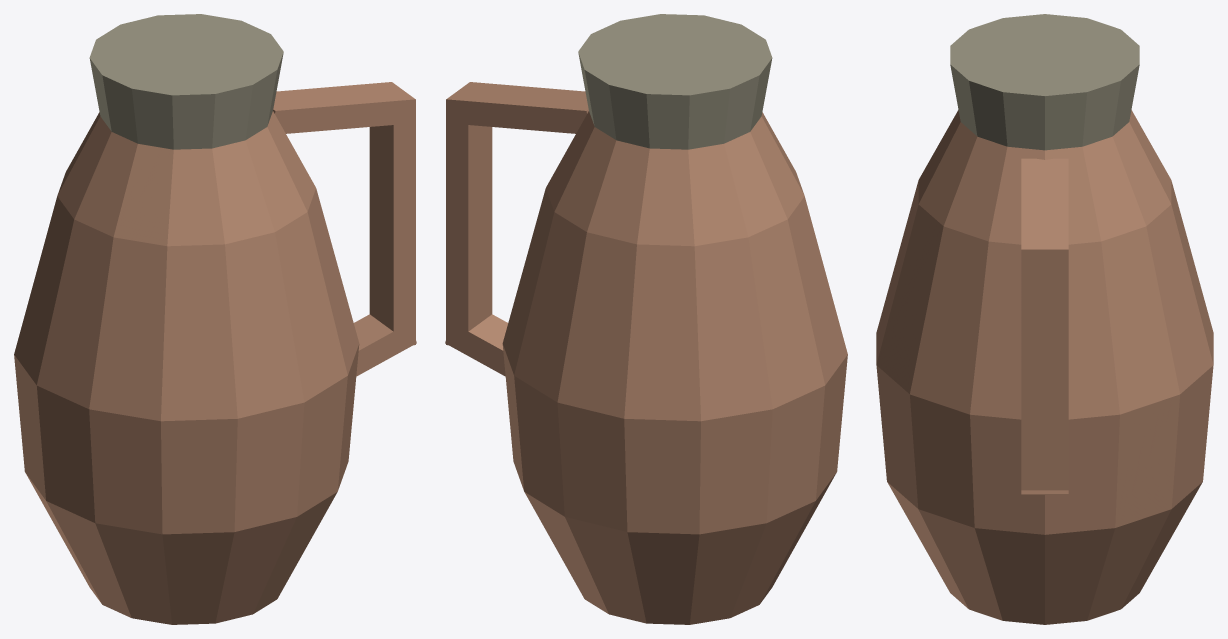
Rendered from pottery_jug.glb.
3 views of the same model, side by side, from view 1: azimuth 30°, elevation 25°; view 2: azimuth 150°, elevation 25°; view 3: azimuth 270°, elevation 25° (orthographic).
Parts seen in each view (by area): view 1: pottery_jug; view 2: pottery_jug; view 3: pottery_jug.
Boxes of the visible parts, left/top/right/bottom form: pottery_jug: left=14, top=14, right=416, bottom=624; pottery_jug: left=445, top=14, right=847, bottom=624; pottery_jug: left=876, top=14, right=1213, bottom=624.
Bounding box in the file's own units: 0.1965 × 0.27 × 0.156.
